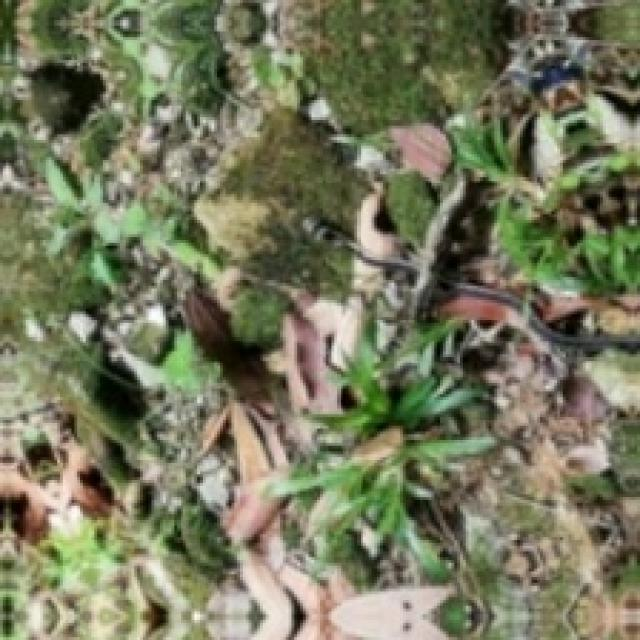king cobra: (436, 281, 640, 361), (302, 218, 420, 278)
